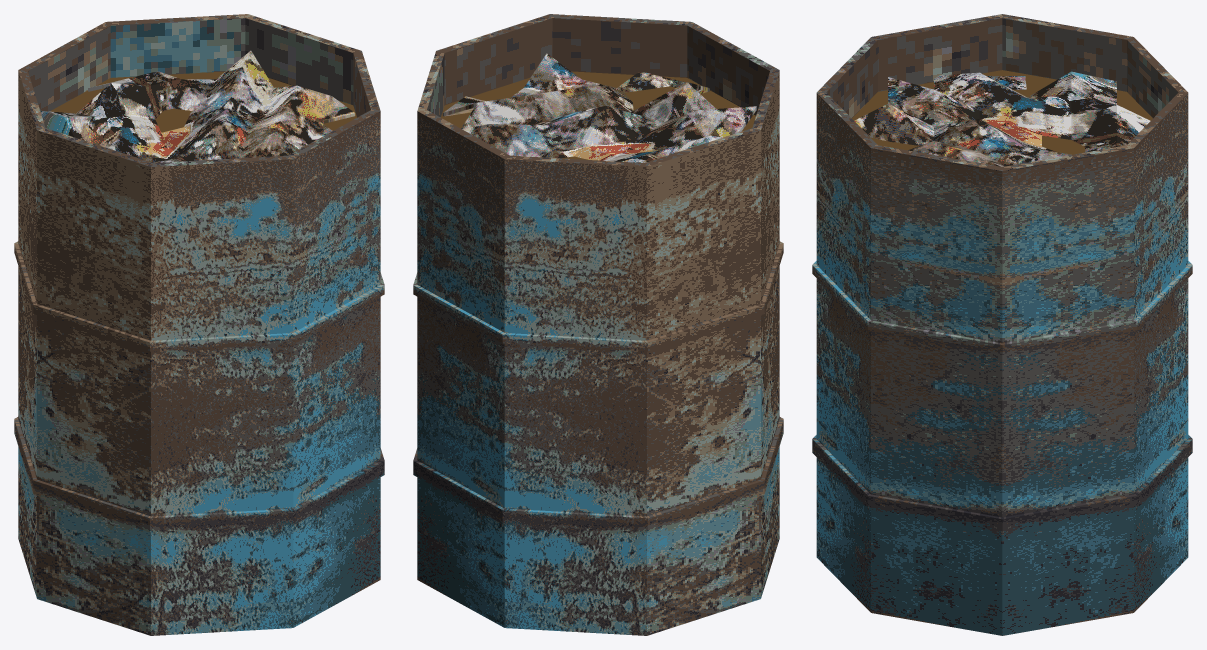
Rendered from Barrel2.glb.
The picture shows the model from 3 angles, left to right: view 1: azimuth 30°, elevation 25°; view 2: azimuth 150°, elevation 25°; view 3: azimuth 270°, elevation 25°; orthographic projection.
Parts seen in each view (by area): view 1: Barrel 2; view 2: Barrel 2; view 3: Barrel 2.
Boxes of the visible parts, <box> form: Barrel 2: <box>14,14,384,635</box>; Barrel 2: <box>413,14,783,635</box>; Barrel 2: <box>812,14,1192,635</box>.
Size of the model in its own units: 1.14 by 1.53 by 1.14.
3 materials, 2 textured.
